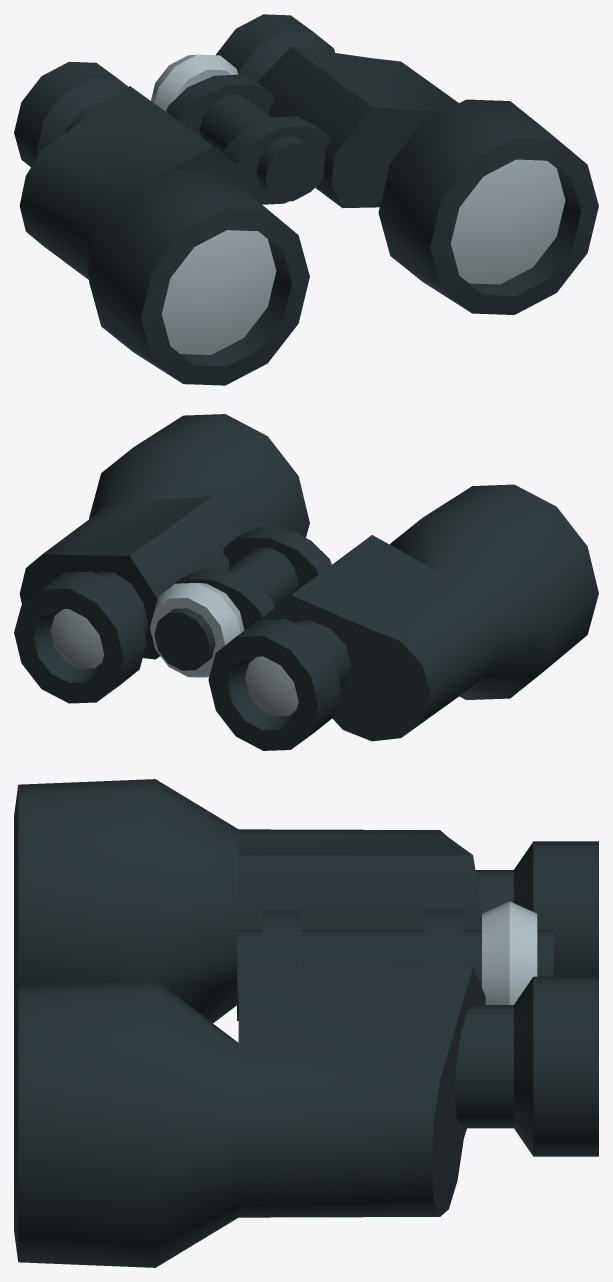
Rendered from binoculars.gltf.glb.
The picture shows the model from 3 angles, top to bottom: view 1: azimuth 30°, elevation 25°; view 2: azimuth 150°, elevation 25°; view 3: azimuth 270°, elevation 25°; orthographic projection. The views are drawn at different scales.
Visible parts, largest first — view 1: binoculars; view 2: binoculars; view 3: binoculars.
Part boxes in pixels (box(x1,y1,x2,y2)): binoculars: box(14, 14, 598, 385); binoculars: box(14, 414, 598, 750); binoculars: box(14, 779, 598, 1267).
Bounding box in the file's own units: 0.7974 × 0.3015 × 0.6102.
